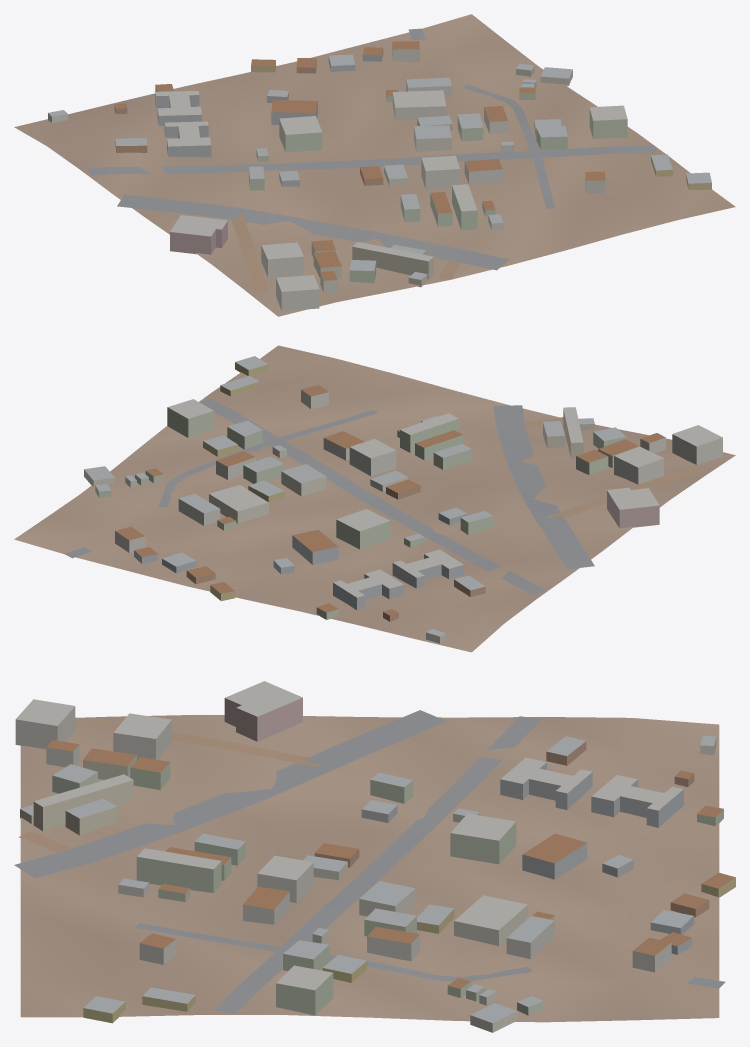
3 views of the same model, one above another, from view 1: azimuth 30°, elevation 25°; view 2: azimuth 150°, elevation 25°; view 3: azimuth 270°, elevation 25° (orthographic). The views are drawn at different scales.
Visible parts, largest first — view 1: Lo; view 2: Lo; view 3: Lo.
Boxes of the visible parts, box(x1,y1,x2,y2) form: Lo: box(14, 14, 735, 316); Lo: box(14, 345, 735, 652); Lo: box(14, 681, 735, 1032).
Bounding box in the file's own units: 274 × 15.36 × 265.
